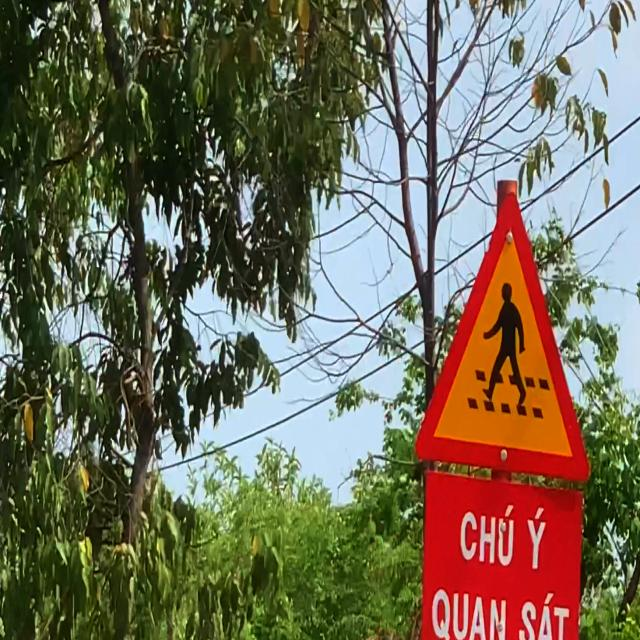Nguoi di bo cat ngang: (407, 172, 597, 496)
